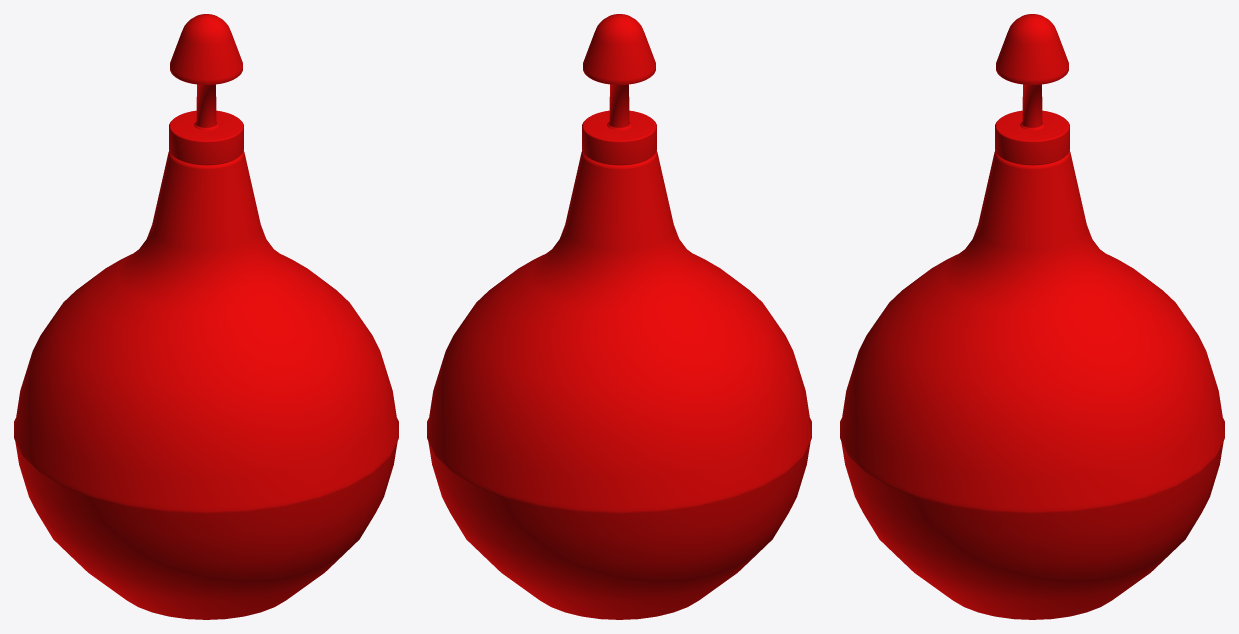
The model's file is Medical_instrument_14.fbx.
3 views of the same model, side by side, from view 1: azimuth 30°, elevation 25°; view 2: azimuth 150°, elevation 25°; view 3: azimuth 270°, elevation 25° (orthographic).
Parts seen in each view (by area): view 1: L:polySurface1462; view 2: L:polySurface1462; view 3: L:polySurface1462.
Boxes of the visible parts, bbox=[...] form: L:polySurface1462: bbox=[14, 14, 398, 619]; L:polySurface1462: bbox=[427, 14, 811, 619]; L:polySurface1462: bbox=[840, 14, 1224, 619].
Bounding box in the file's own units: 21.84 × 35.27 × 21.72.
